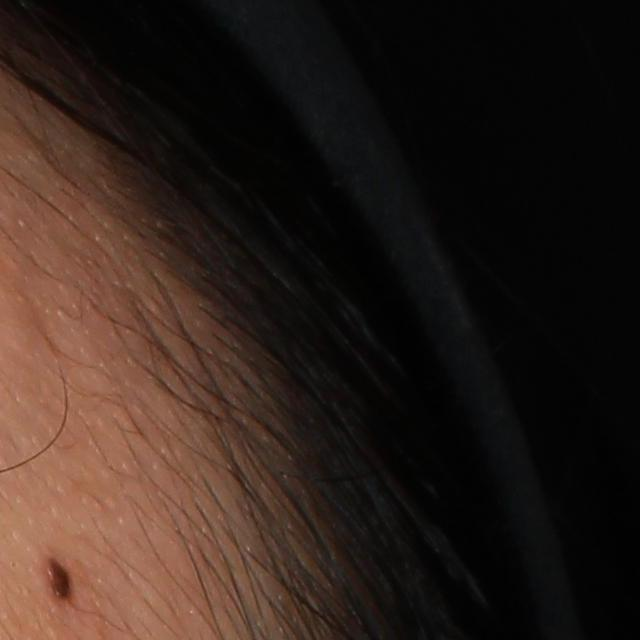nevus: (46, 554, 74, 605)
